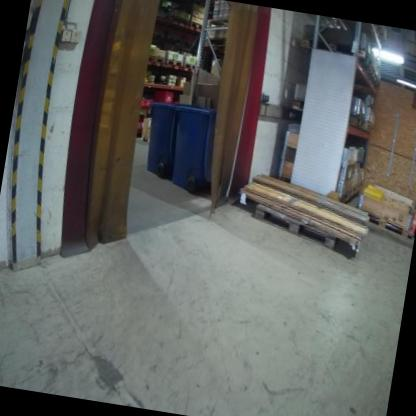pallet: (249, 201, 343, 251), (366, 214, 410, 241), (204, 32, 227, 51), (164, 58, 184, 69), (146, 54, 165, 65), (189, 20, 203, 30), (183, 62, 195, 71)
pallet_truck: (405, 199, 416, 243)
